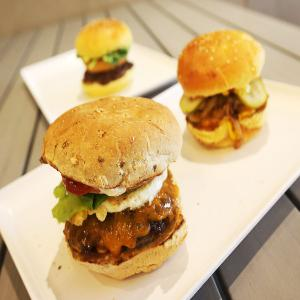cheeseburger_475cal: (40, 95, 201, 277), (177, 27, 272, 158)
